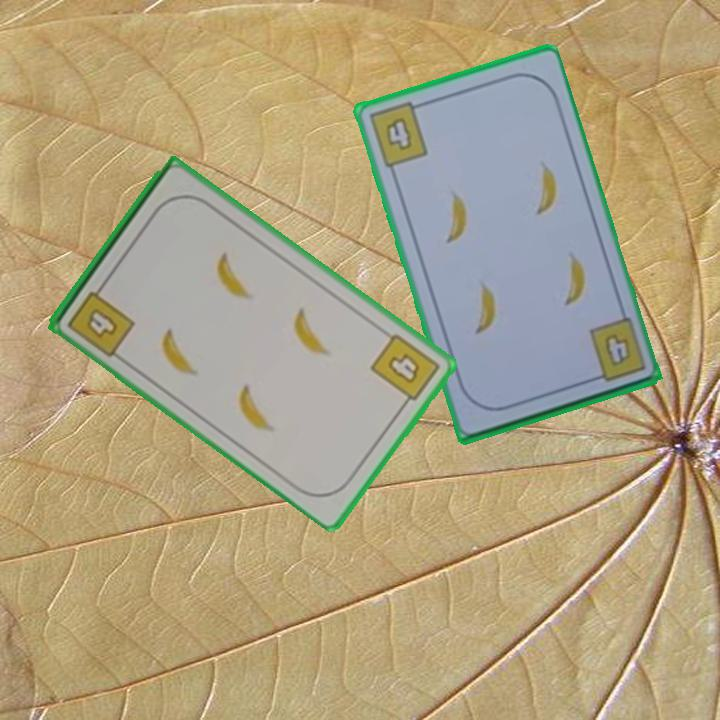4b: (367, 329, 443, 412), (64, 278, 138, 360), (365, 98, 431, 170), (585, 314, 649, 385)
